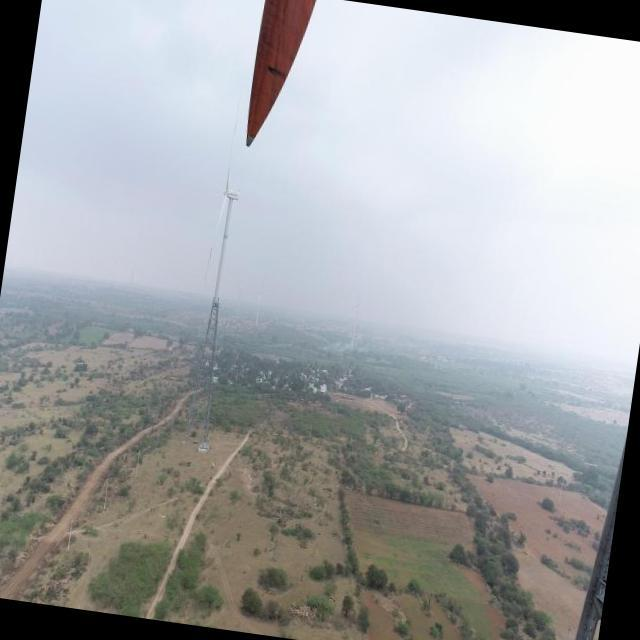Dirt: (245, 0, 319, 146)
Oil LEAKAGE: (265, 60, 286, 79)
